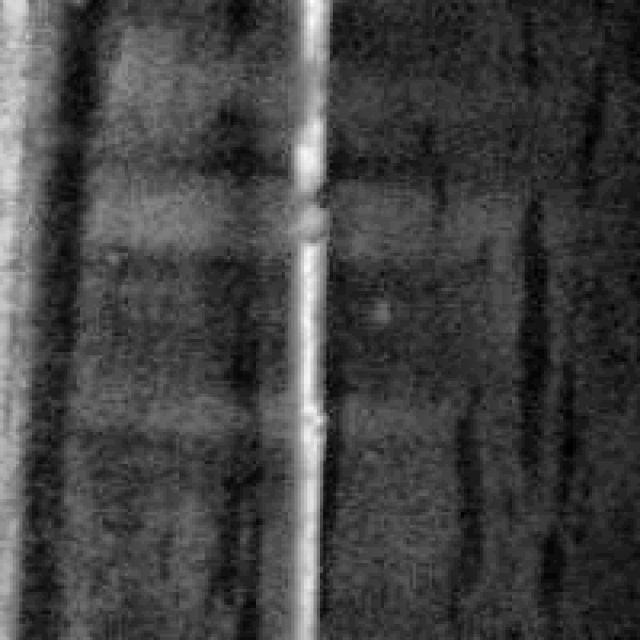Inclusion: (278, 0, 336, 637)
